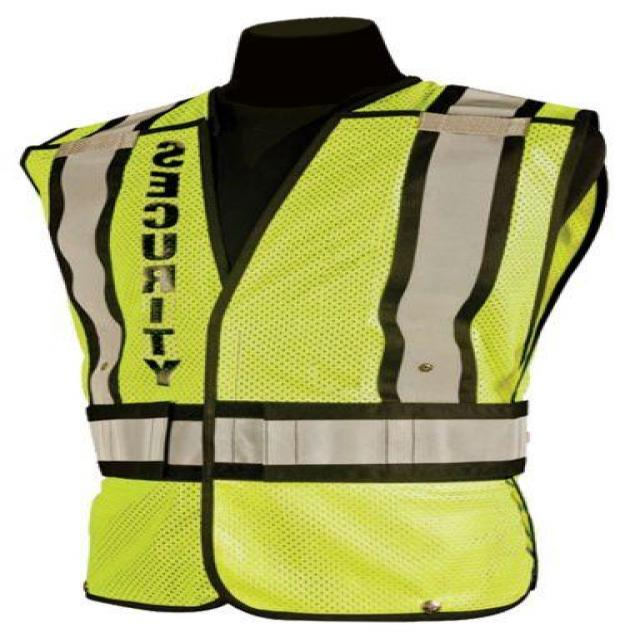Reflective-Jacket: (8, 59, 630, 636)
